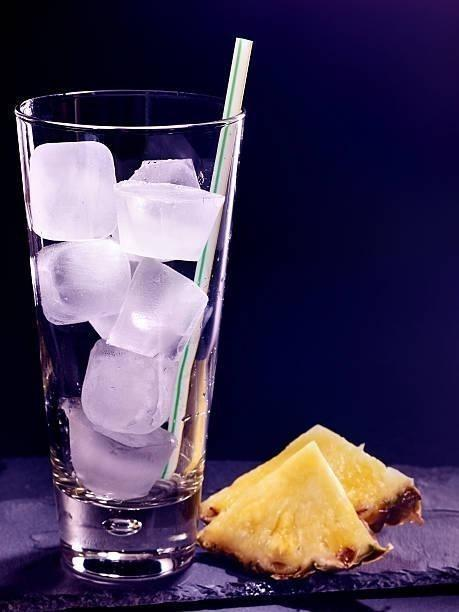glass-normal: (13, 87, 247, 588)
